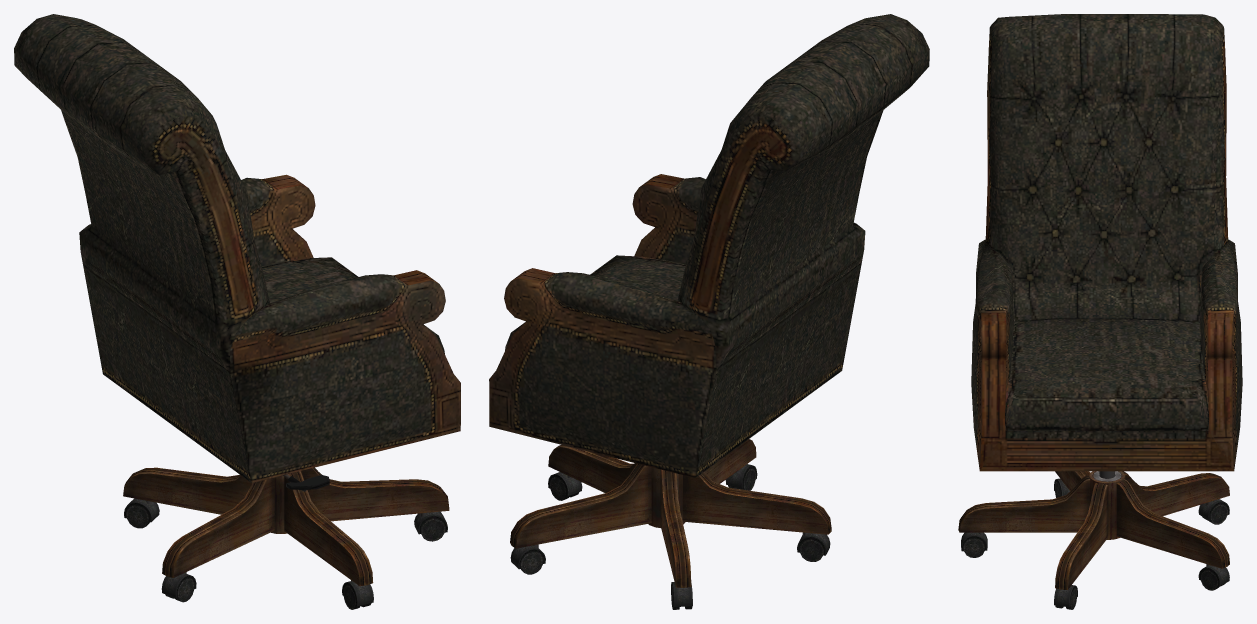
Rendered from 018_HeadChair.fbx.
3 views of the same model, side by side, from view 1: azimuth 30°, elevation 25°; view 2: azimuth 150°, elevation 25°; view 3: azimuth 270°, elevation 25° (orthographic). The views are drawn at different scales.
Visible parts, largest first — view 1: LOD_1_Group_0_Sub_1__sm30_018_HeadChair01A_A_Mat, LOD_1_Group_1_Sub_1__sm30_018_HeadChair01A_A_Mat; view 2: LOD_1_Group_0_Sub_1__sm30_018_HeadChair01A_A_Mat, LOD_1_Group_1_Sub_1__sm30_018_HeadChair01A_A_Mat; view 3: LOD_1_Group_0_Sub_1__sm30_018_HeadChair01A_A_Mat, LOD_1_Group_1_Sub_1__sm30_018_HeadChair01A_A_Mat.
Part boxes in pixels (x1=…): LOD_1_Group_0_Sub_1__sm30_018_HeadChair01A_A_Mat: x1=14, y1=14, x2=460, y2=482; LOD_1_Group_1_Sub_1__sm30_018_HeadChair01A_A_Mat: x1=123, y1=467, x2=449, y2=609; LOD_1_Group_0_Sub_1__sm30_018_HeadChair01A_A_Mat: x1=489, y1=14, x2=929, y2=477; LOD_1_Group_1_Sub_1__sm30_018_HeadChair01A_A_Mat: x1=510, y1=439, x2=831, y2=609; LOD_1_Group_0_Sub_1__sm30_018_HeadChair01A_A_Mat: x1=971, y1=14, x2=1242, y2=471; LOD_1_Group_1_Sub_1__sm30_018_HeadChair01A_A_Mat: x1=958, y1=471, x2=1229, y2=609.
Bounding box in the file's own units: 1.19 × 1.76 × 0.9701.
